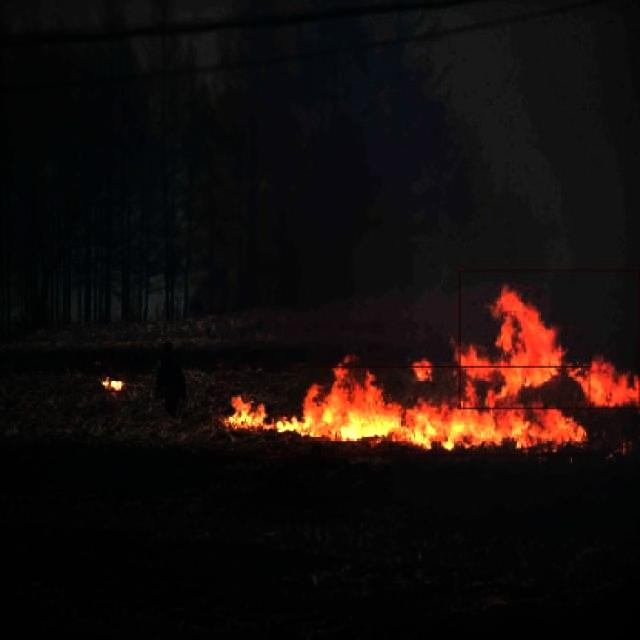fire: (216, 366, 590, 456), (458, 270, 640, 408), (94, 364, 128, 392)
